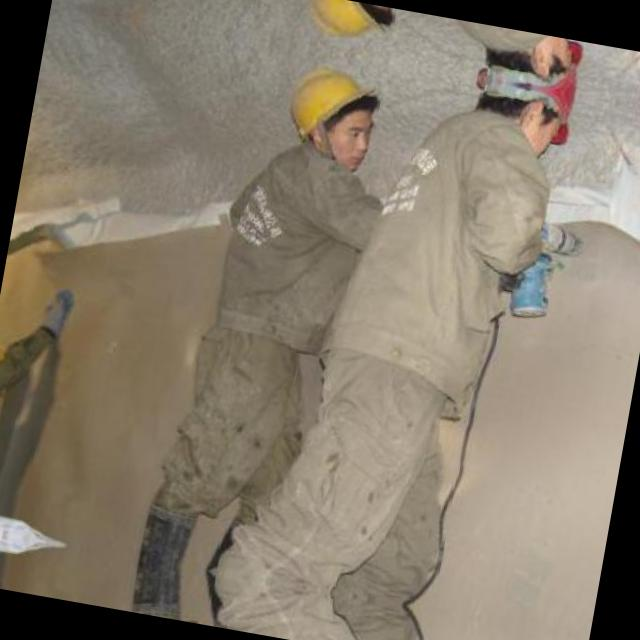helmet: (276, 55, 390, 174), (458, 78, 583, 168), (471, 24, 594, 96), (296, 0, 402, 53)
